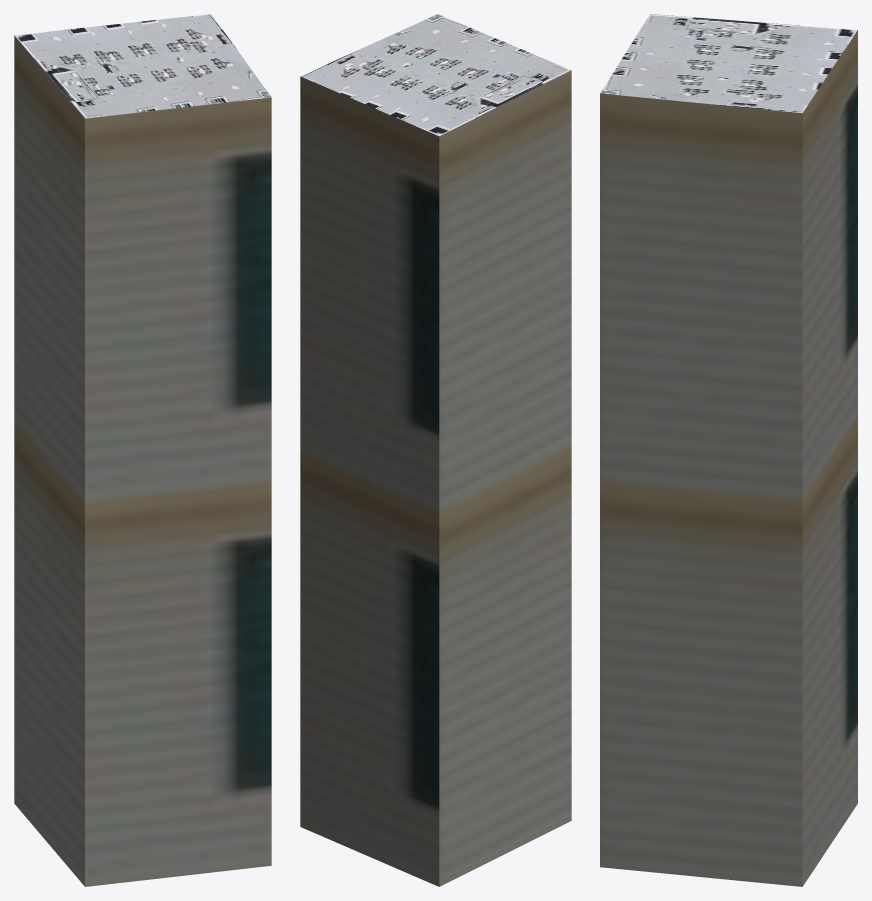
The model's file is ResTex__2237.fbx.
3 views of the same model, side by side, from view 1: azimuth 30°, elevation 25°; view 2: azimuth 150°, elevation 25°; view 3: azimuth 270°, elevation 25° (orthographic). The views are drawn at different scales.
Parts seen in each view (by area): view 1: CityEngineMaterial_7_m, CityEngineMaterial_15_m; view 2: CityEngineMaterial_7_m, CityEngineMaterial_15_m; view 3: CityEngineMaterial_7_m, CityEngineMaterial_15_m.
Part boxes in pixels (bbox=[...]): CityEngineMaterial_7_m: bbox=[14, 35, 271, 886]; CityEngineMaterial_15_m: bbox=[15, 14, 270, 118]; CityEngineMaterial_7_m: bbox=[300, 70, 571, 886]; CityEngineMaterial_15_m: bbox=[301, 14, 571, 136]; CityEngineMaterial_7_m: bbox=[600, 30, 857, 886]; CityEngineMaterial_15_m: bbox=[600, 14, 857, 112].
Bounding box in the file's own units: 1.65 × 6 × 1.81.
2 materials, 2 textured.
